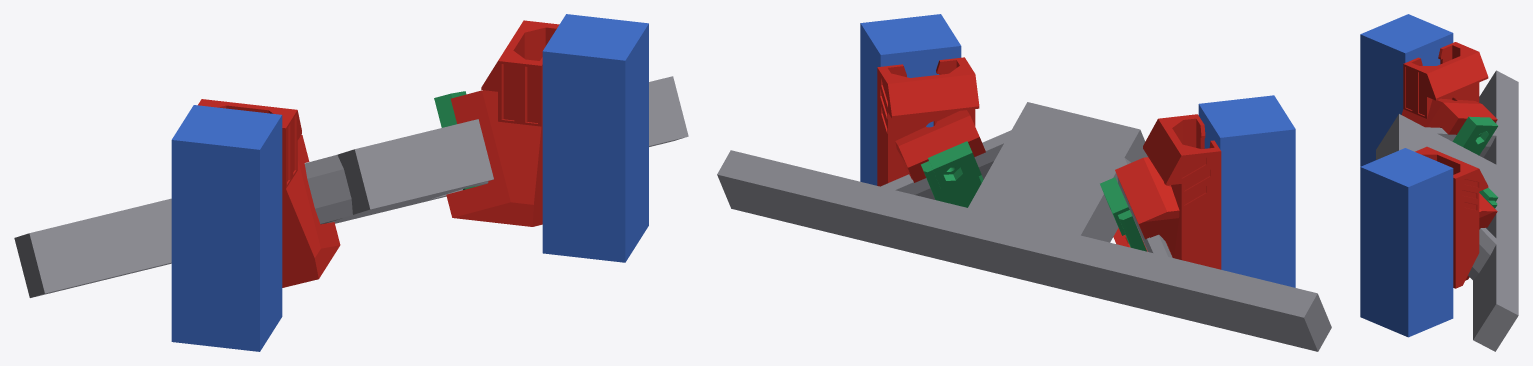
Rendered from assembly_m19.obj.
The picture shows the model from 3 angles, left to right: view 1: azimuth 30°, elevation 25°; view 2: azimuth 150°, elevation 25°; view 3: azimuth 270°, elevation 25°; orthographic projection. The views are drawn at different scales.
Parts seen in each view (by area): view 1: left_light_placeholder, right_light_placeholder, hanger_schematic, right_saddle, left_saddle, right_keeper; view 2: hanger_schematic, left_light_placeholder, left_saddle, right_saddle, right_light_placeholder, right_keeper, left_keeper; view 3: right_light_placeholder, hanger_schematic, left_light_placeholder, left_saddle, right_saddle, left_keeper, right_keeper.
Boxes of the visible parts, left/top/right/bottom form: left_light_placeholder: left=171, top=105, right=282, bottom=351; right_light_placeholder: left=542, top=14, right=648, bottom=262; hanger_schematic: left=14, top=76, right=688, bottom=297; right_saddle: left=446, top=20, right=559, bottom=226; left_saddle: left=198, top=99, right=340, bottom=287; right_keeper: left=434, top=91, right=481, bottom=189; hanger_schematic: left=717, top=102, right=1331, bottom=351; left_light_placeholder: left=1198, top=95, right=1295, bottom=287; left_saddle: left=1113, top=114, right=1221, bottom=269; right_saddle: left=877, top=57, right=985, bottom=186; right_light_placeholder: left=860, top=14, right=961, bottom=185; right_keeper: left=921, top=141, right=983, bottom=207; left_keeper: left=1100, top=177, right=1146, bottom=251; right_light_placeholder: left=1360, top=148, right=1453, bottom=337; hanger_schematic: left=1376, top=70, right=1518, bottom=351; left_light_placeholder: left=1360, top=14, right=1453, bottom=166; left_saddle: left=1401, top=42, right=1497, bottom=134; right_saddle: left=1415, top=146, right=1497, bottom=288; left_keeper: left=1452, top=116, right=1497, bottom=155; right_keeper: left=1479, top=188, right=1498, bottom=208.
Bounding box in the file's own units: 260 × 78 × 74.52.
